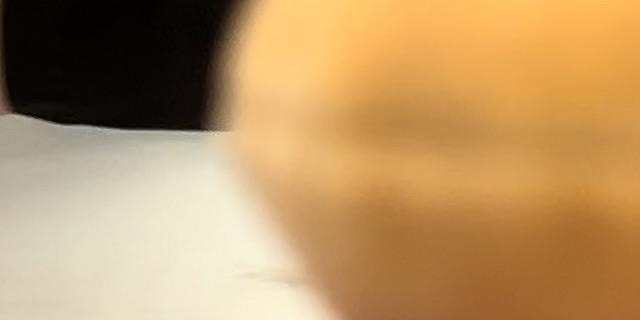burger: (210, 0, 640, 320)
